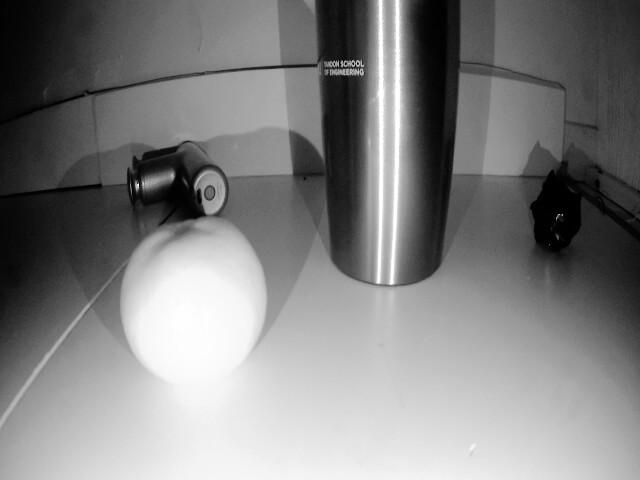black: (524, 176, 586, 277)
